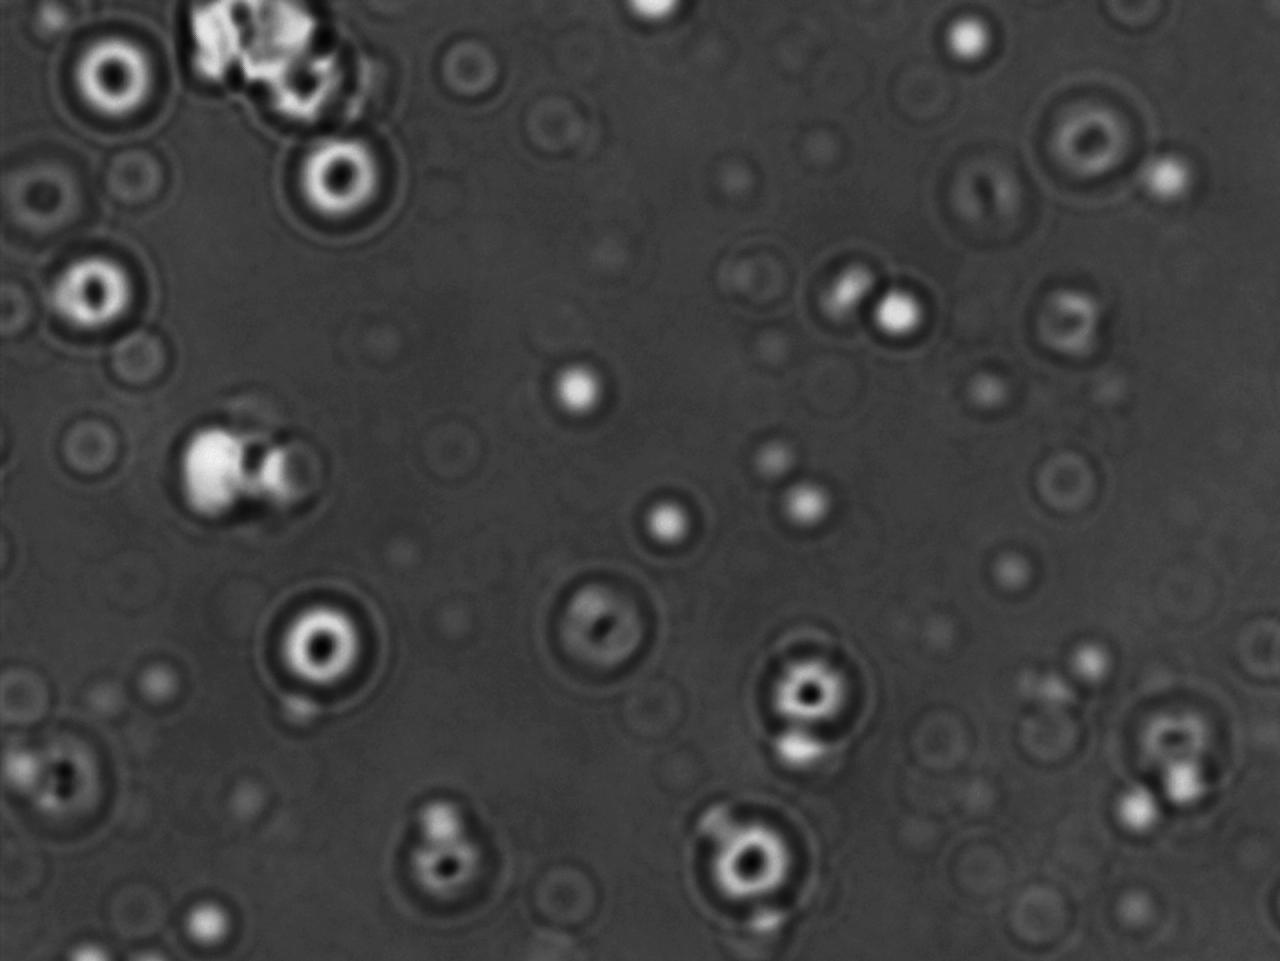depth:16: (241, 571, 408, 723), (687, 790, 823, 917), (275, 119, 412, 241), (743, 625, 872, 753), (28, 231, 162, 351), (56, 17, 186, 139)
